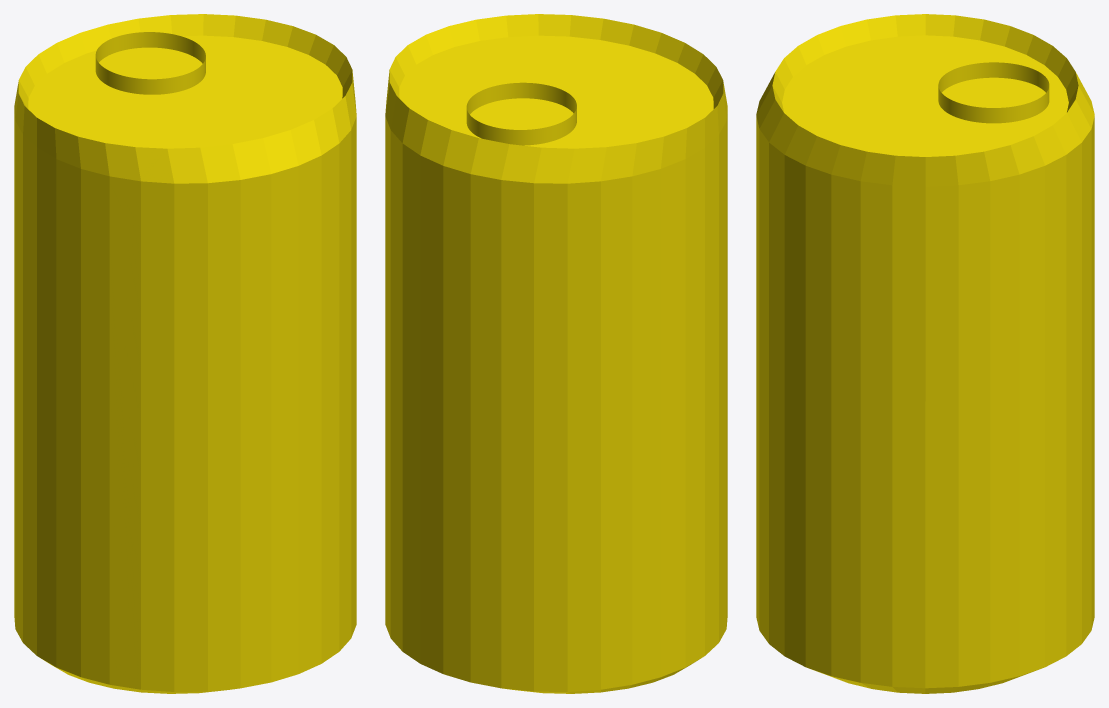
File: Beer.fbx
3 views of the same model, side by side, from view 1: azimuth 30°, elevation 25°; view 2: azimuth 150°, elevation 25°; view 3: azimuth 270°, elevation 25° (orthographic).
Parts seen in each view (by area): view 1: Cylinder, Cylinder.001, BézierCircle; view 2: Cylinder, Cylinder.001, BézierCircle; view 3: Cylinder, Cylinder.001, BézierCircle.
Boxes of the visible parts, left/top/right/bottom form: Cylinder: left=14, top=14, right=356, bottom=693; Cylinder.001: left=28, top=35, right=342, bottom=148; BézierCircle: left=95, top=32, right=205, bottom=94; Cylinder: left=385, top=14, right=727, bottom=693; Cylinder.001: left=399, top=35, right=713, bottom=148; BézierCircle: left=466, top=82, right=576, bottom=145; Cylinder: left=756, top=14, right=1094, bottom=693; Cylinder.001: left=782, top=35, right=1068, bottom=156; BézierCircle: left=938, top=62, right=1049, bottom=123.
Size of the model in its own units: 200 by 355 by 200.
